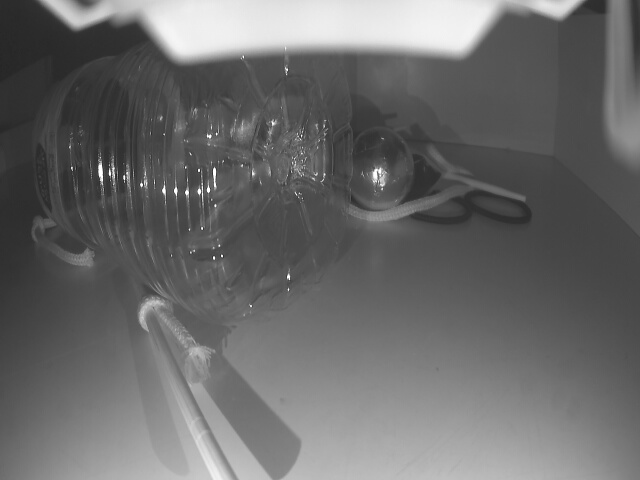Live: (350, 125, 412, 209)
Point: (0, 120, 37, 173)
